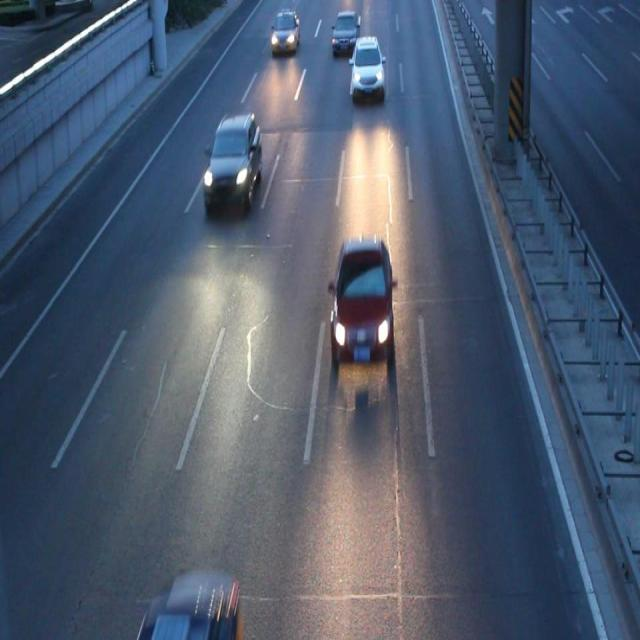car: (330, 238, 396, 369), (148, 572, 245, 640), (202, 112, 261, 208), (348, 37, 385, 98), (270, 10, 298, 54), (331, 10, 358, 54)
